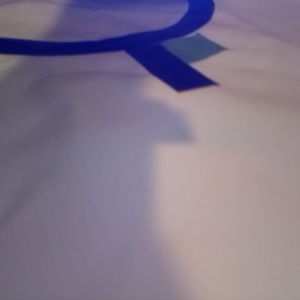bottom_right: (140, 32, 226, 64)
